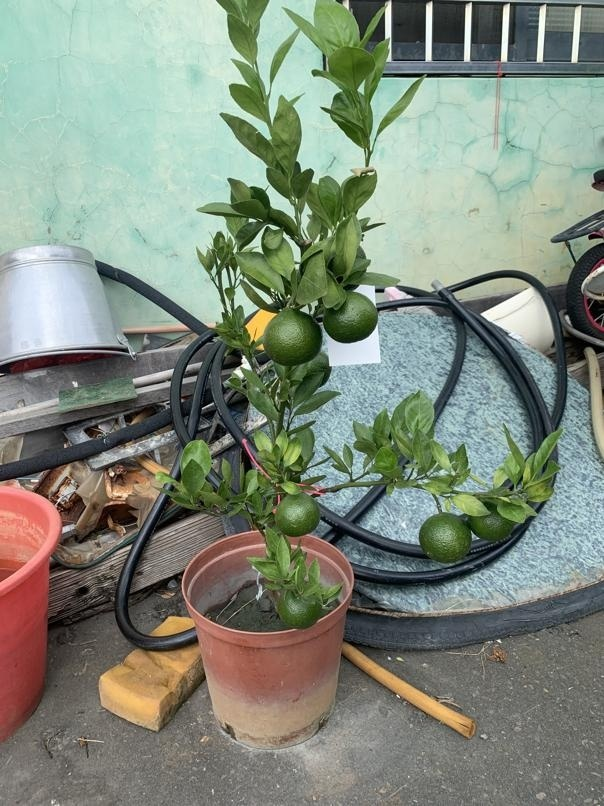Tangerine: (264, 304, 323, 366), (321, 291, 382, 344), (418, 510, 474, 561), (273, 489, 323, 538)
